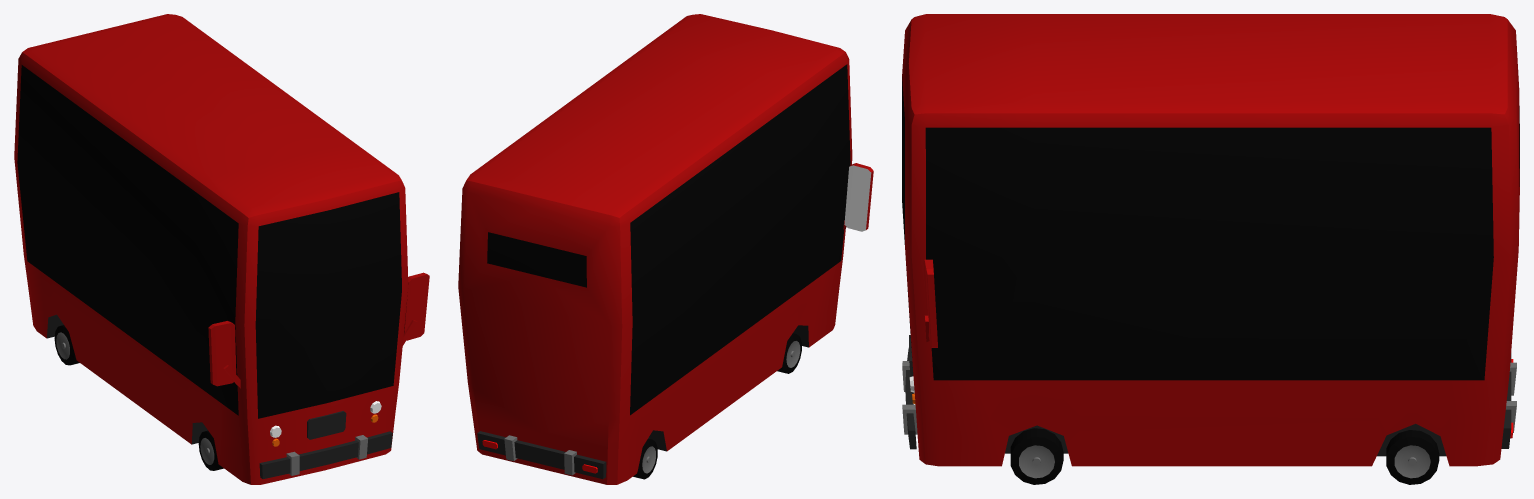
3 views of the same model, side by side, from view 1: azimuth 30°, elevation 25°; view 2: azimuth 150°, elevation 25°; view 3: azimuth 270°, elevation 25° (orthographic). The views are drawn at different scales.
Visible parts, largest first — view 1: Cube, Cube.001, Cube.003, Cylinder.003, Cylinder.002; view 2: Cube, Cube.003, Cube.001, Cylinder.003, Cylinder.002; view 3: Cube, Cylinder, Cylinder.001, Cube.003, Cube.001.
Part boxes in pixels (bbox=[...]): Cube: bbox=[14, 14, 408, 484]; Cube.001: bbox=[208, 272, 429, 388]; Cube.003: bbox=[259, 401, 392, 478]; Cylinder.003: bbox=[54, 325, 79, 365]; Cylinder.002: bbox=[198, 430, 223, 470]; Cube: bbox=[458, 14, 852, 484]; Cube.003: bbox=[477, 431, 606, 479]; Cube.001: bbox=[843, 163, 873, 231]; Cylinder.003: bbox=[633, 438, 657, 479]; Cylinder.002: bbox=[777, 333, 801, 373]; Cube: bbox=[902, 14, 1519, 466]; Cylinder: bbox=[1010, 428, 1063, 484]; Cylinder.001: bbox=[1386, 430, 1439, 484]; Cube.003: bbox=[902, 348, 1516, 449]; Cube.001: bbox=[923, 259, 937, 347].
Size of the model in its own units: 165 by 212 by 310.
Materials: 1 (1 with a texture image).
